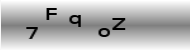7: (25, 26, 39, 40)
F: (44, 6, 57, 21)
Z: (111, 17, 126, 31)
o: (97, 27, 110, 37)
q: (68, 13, 82, 28)
